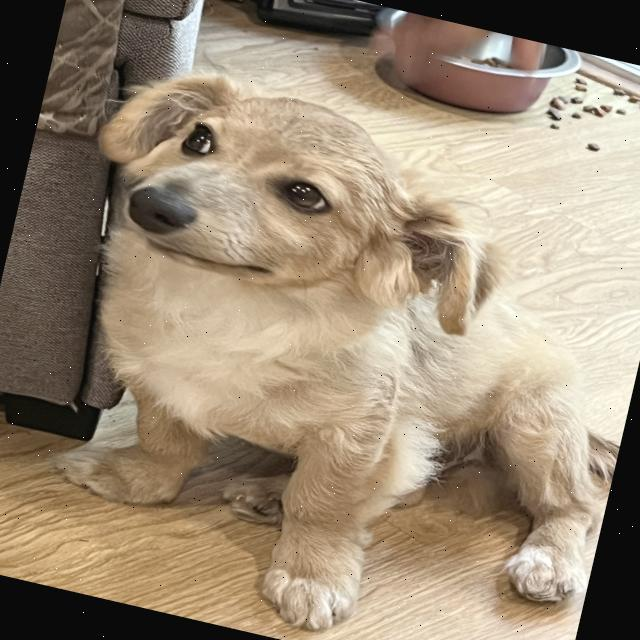corgi_dog: (48, 34, 540, 382)
